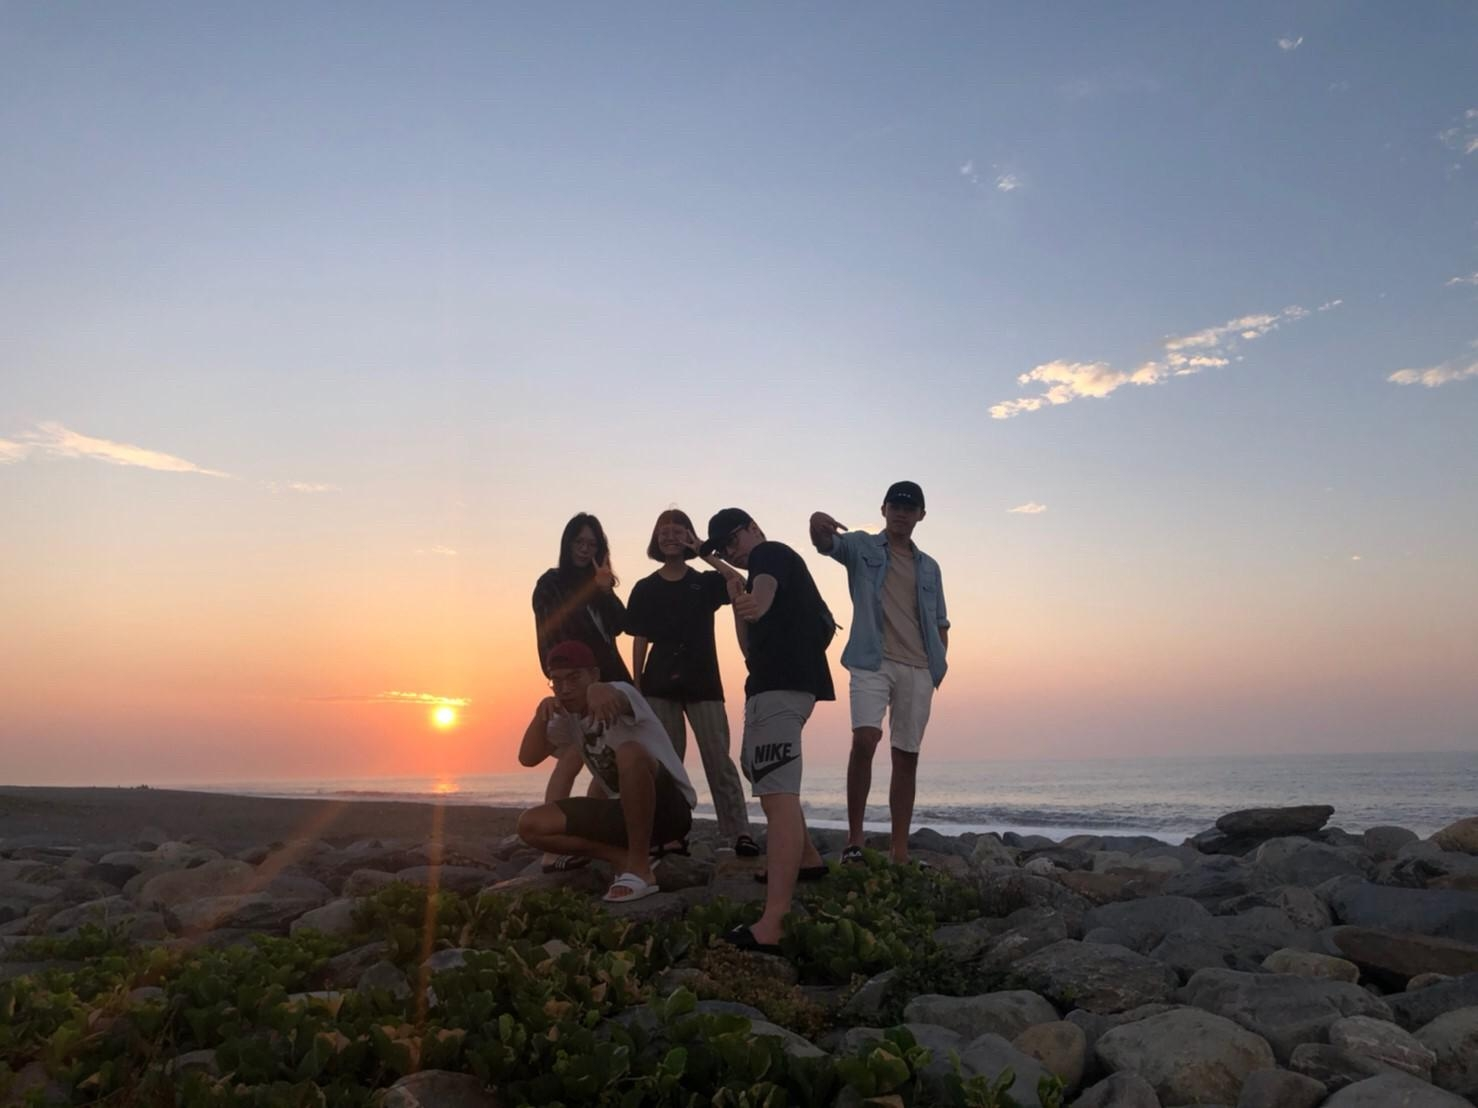people: (715, 502, 836, 969), (829, 473, 965, 886), (623, 492, 746, 819), (527, 636, 671, 909), (529, 505, 623, 694)
